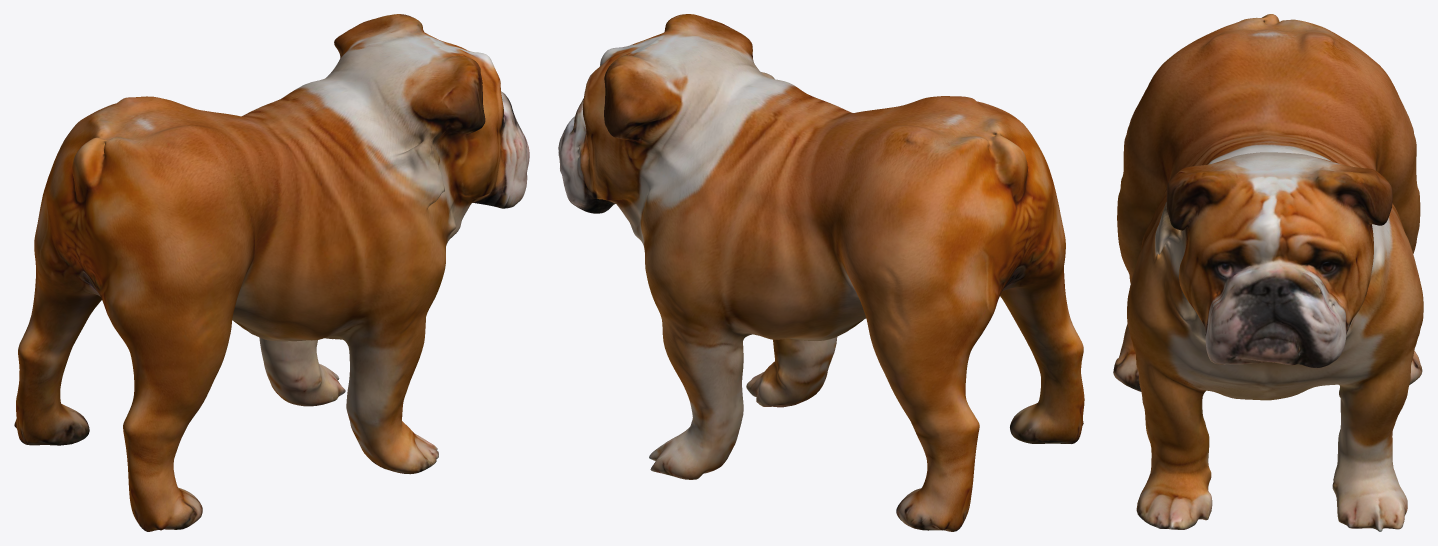
File: bulldog.glb
The picture shows the model from 3 angles, left to right: view 1: azimuth 30°, elevation 25°; view 2: azimuth 150°, elevation 25°; view 3: azimuth 270°, elevation 25°; orthographic projection. The views are drawn at different scales.
Visible parts, largest first — view 1: tripo_node_c694cd86-acc2-412c-9e89-e5794b4acfd6; view 2: tripo_node_c694cd86-acc2-412c-9e89-e5794b4acfd6; view 3: tripo_node_c694cd86-acc2-412c-9e89-e5794b4acfd6.
Part boxes in pixels (x1=…): tripo_node_c694cd86-acc2-412c-9e89-e5794b4acfd6: x1=14, y1=14, x2=529, y2=531; tripo_node_c694cd86-acc2-412c-9e89-e5794b4acfd6: x1=558, y1=14, x2=1084, y2=531; tripo_node_c694cd86-acc2-412c-9e89-e5794b4acfd6: x1=1113, y1=14, x2=1423, y2=531.
Size of the model in its own units: 0.7636 by 0.6047 by 0.4383.
Materials: 1 (1 with a texture image).
